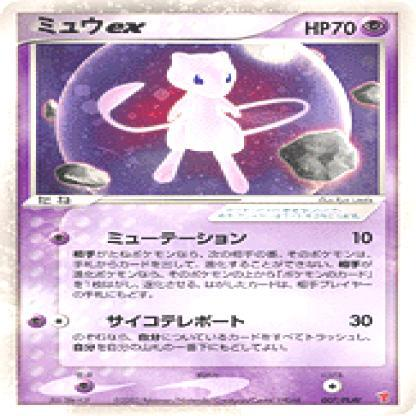Mew: (1, 1, 415, 416)
